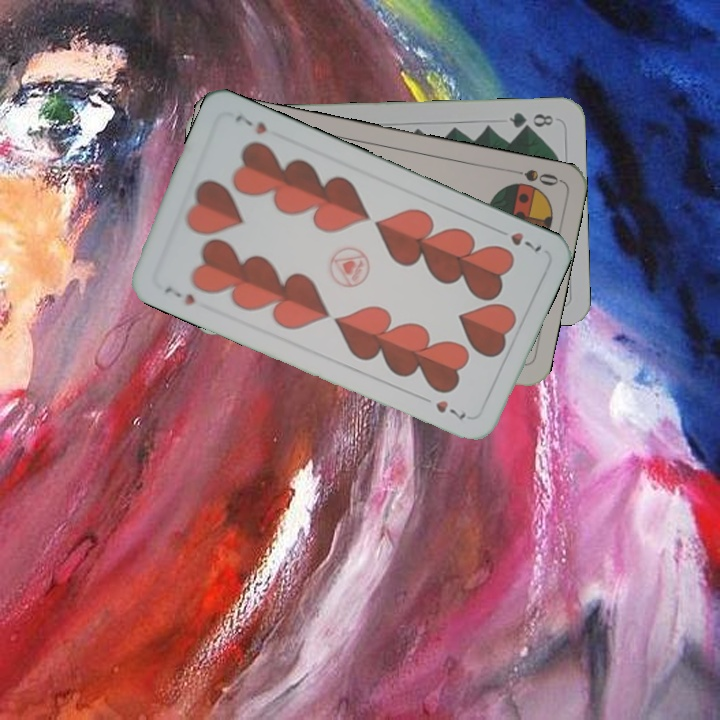G8: (505, 108, 556, 132)
H7: (491, 224, 544, 257), (160, 282, 197, 308)
SO: (503, 164, 562, 189)
